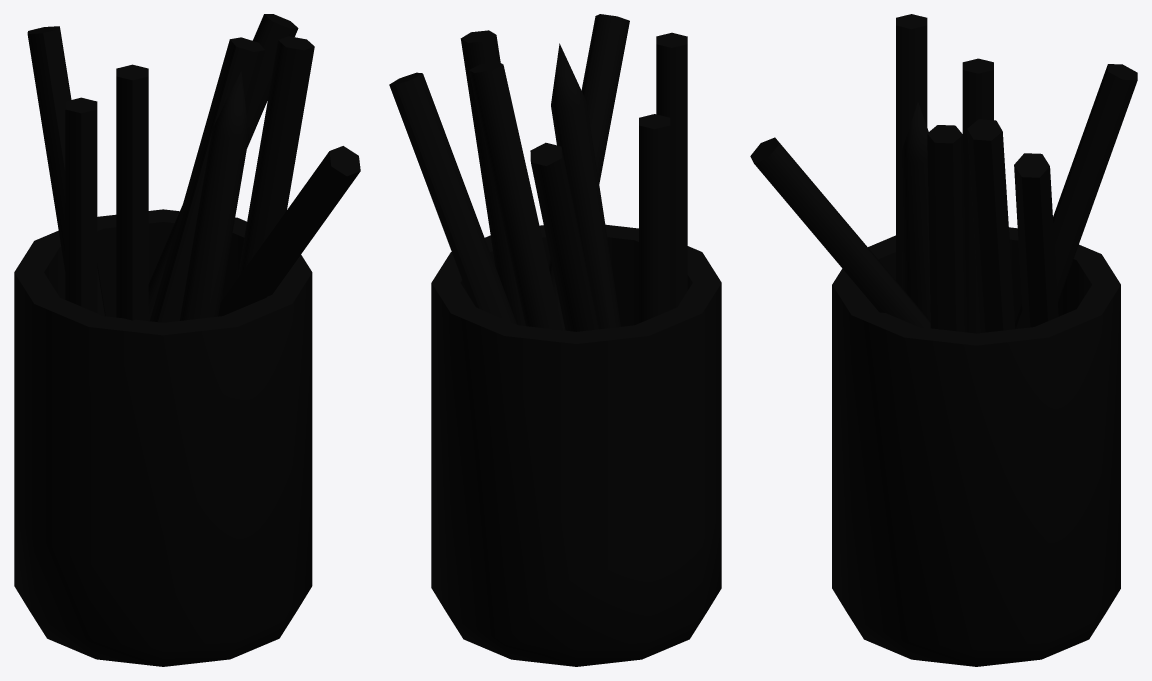
3 renders of one model, left to right at view 1: azimuth 30°, elevation 25°; view 2: azimuth 150°, elevation 25°; view 3: azimuth 270°, elevation 25°, orthographic. The views are drawn at different scales.
Visible parts, largest first — view 1: Joint_0_Object_0; view 2: Joint_0_Object_0; view 3: Joint_0_Object_0.
Part boxes in pixels (x1=…): Joint_0_Object_0: x1=14, y1=14, x2=360, y2=666; Joint_0_Object_0: x1=389, y1=14, x2=721, y2=666; Joint_0_Object_0: x1=750, y1=14, x2=1137, y2=666.
Bounding box in the file's own units: 179 × 342 × 215.
Materials: 1 (1 with a texture image).
